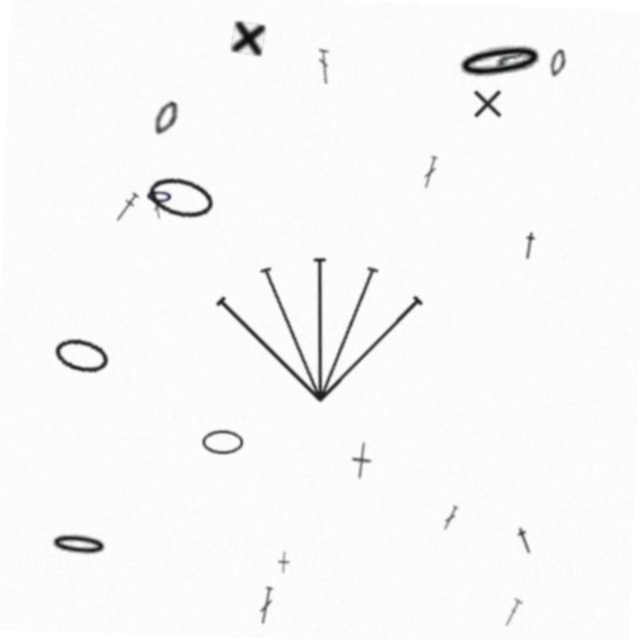chain: (443, 30, 541, 83), (141, 177, 212, 228), (53, 342, 112, 384), (56, 539, 117, 567), (485, 38, 530, 69), (143, 104, 175, 144), (206, 433, 247, 457), (141, 191, 170, 212), (539, 41, 559, 71)
double: (267, 588, 284, 627), (511, 591, 532, 621), (416, 152, 434, 186), (448, 501, 465, 527), (310, 49, 321, 84), (147, 197, 160, 225)
fan: (205, 232, 434, 407)
half_double: (108, 197, 137, 231), (520, 518, 544, 549), (517, 224, 537, 254)
single: (460, 78, 500, 118), (222, 24, 256, 58), (355, 440, 378, 479), (286, 552, 298, 575)
